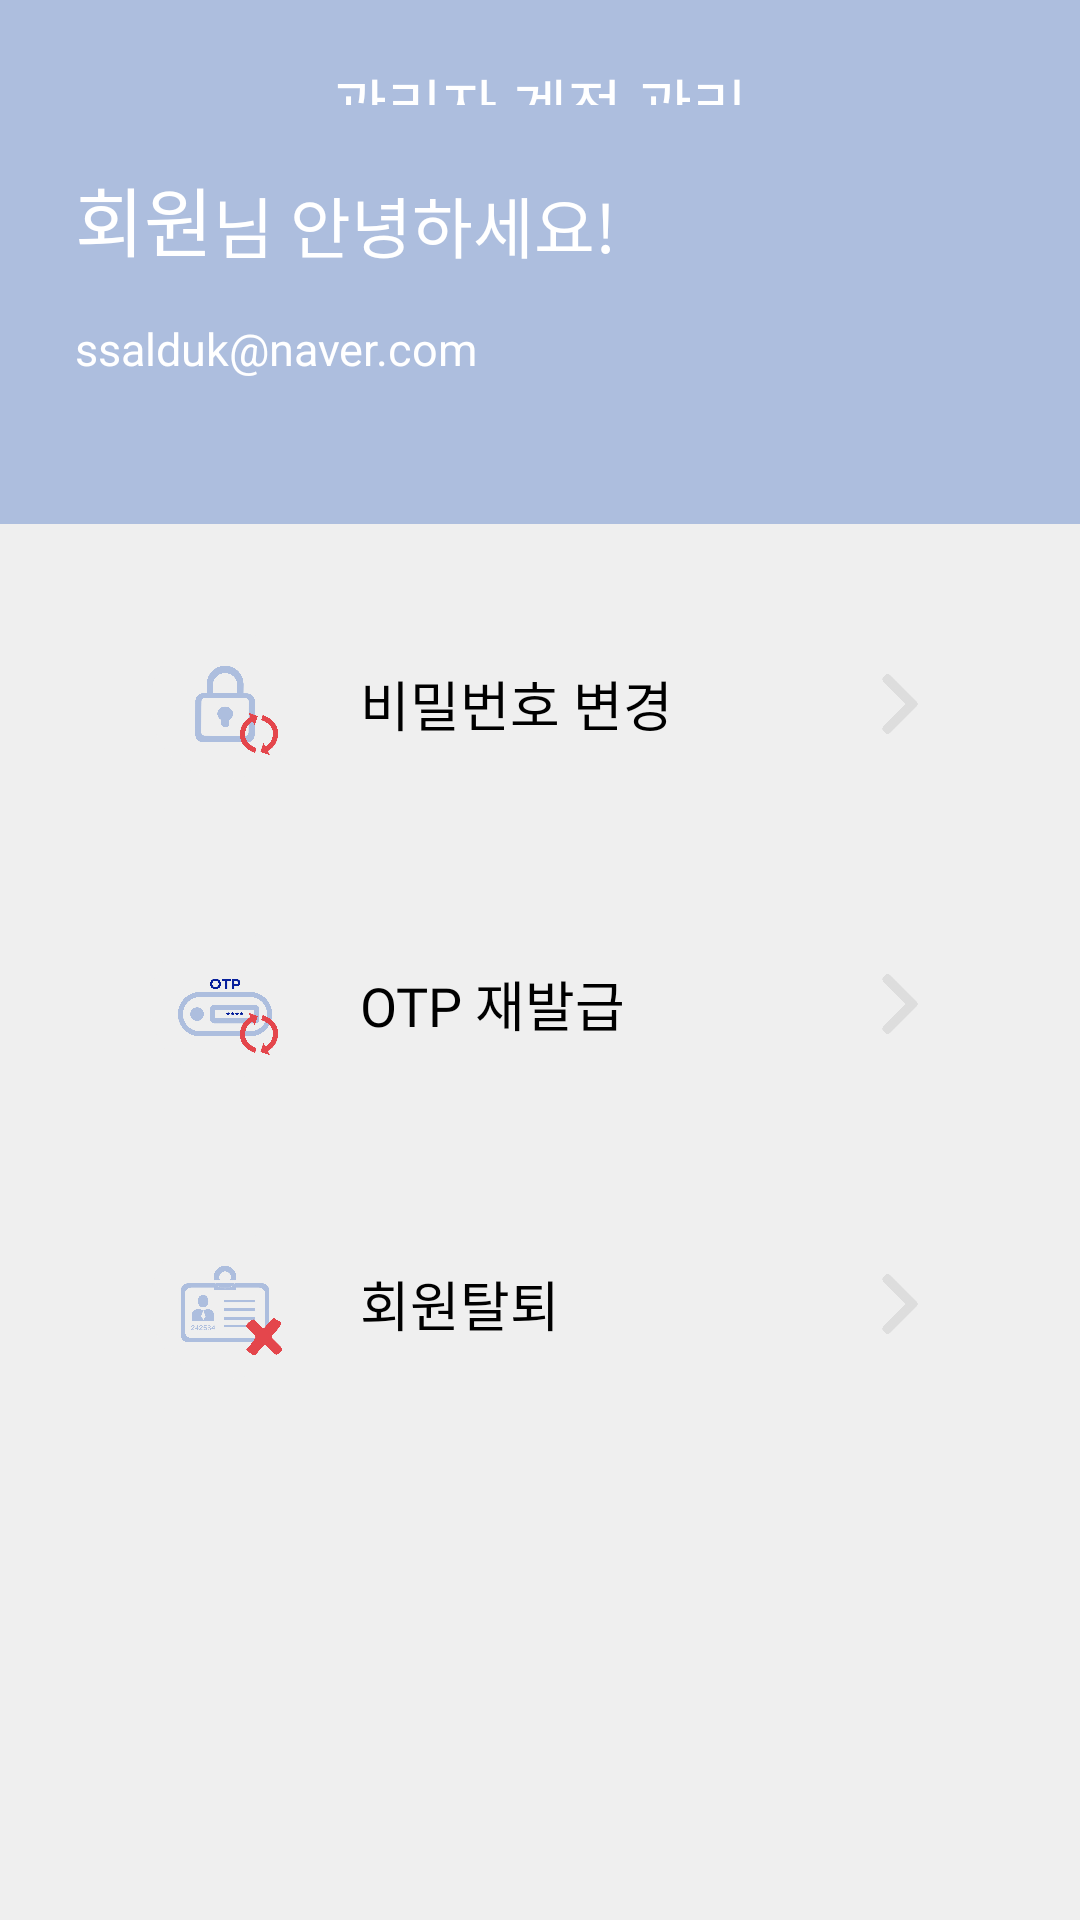

Where icons sit on this 1080*1920 app screen, as [left=x1, top=y1, right=x2, bottom=y2]:
accountdelimg: [left=181, top=1266, right=282, bottom=1355]
changepassword: [left=195, top=666, right=278, bottom=755]
otpreissuimg: [left=178, top=979, right=278, bottom=1055]
